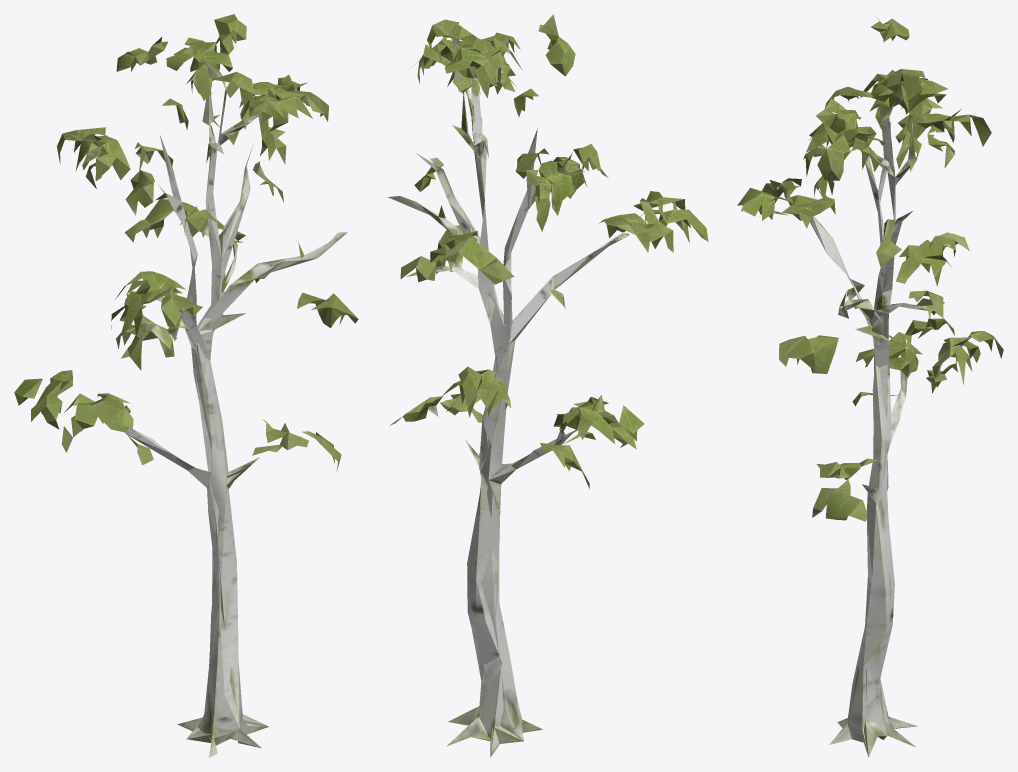
File: birch.glb
The picture shows the model from 3 angles, left to right: view 1: azimuth 30°, elevation 25°; view 2: azimuth 150°, elevation 25°; view 3: azimuth 270°, elevation 25°; orthographic projection. The views are drawn at different scales.
Visible parts, largest first — view 1: mesh_node; view 2: mesh_node; view 3: mesh_node.
Boxes of the visible parts, x1=… form: mesh_node: x1=14, y1=14, x2=358, y2=757; mesh_node: x1=387, y1=14, x2=708, y2=757; mesh_node: x1=737, y1=17, x2=1003, y2=757.
Bounding box in the file's own units: 0.7941 × 1.89 × 0.6558.
Materials: 1 (1 with a texture image).
